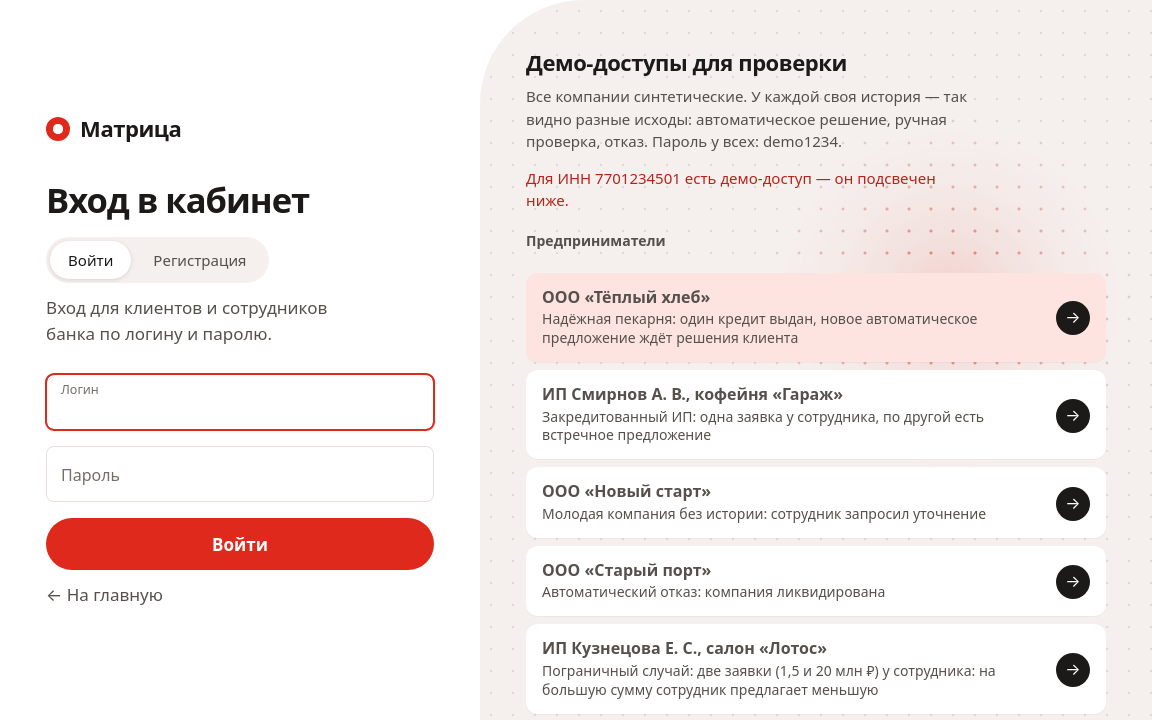
Scenario: Login › says so when the server cannot be reached
Type "client1" into the field labelled "Логин" at (240, 402), box [46, 374, 434, 430]
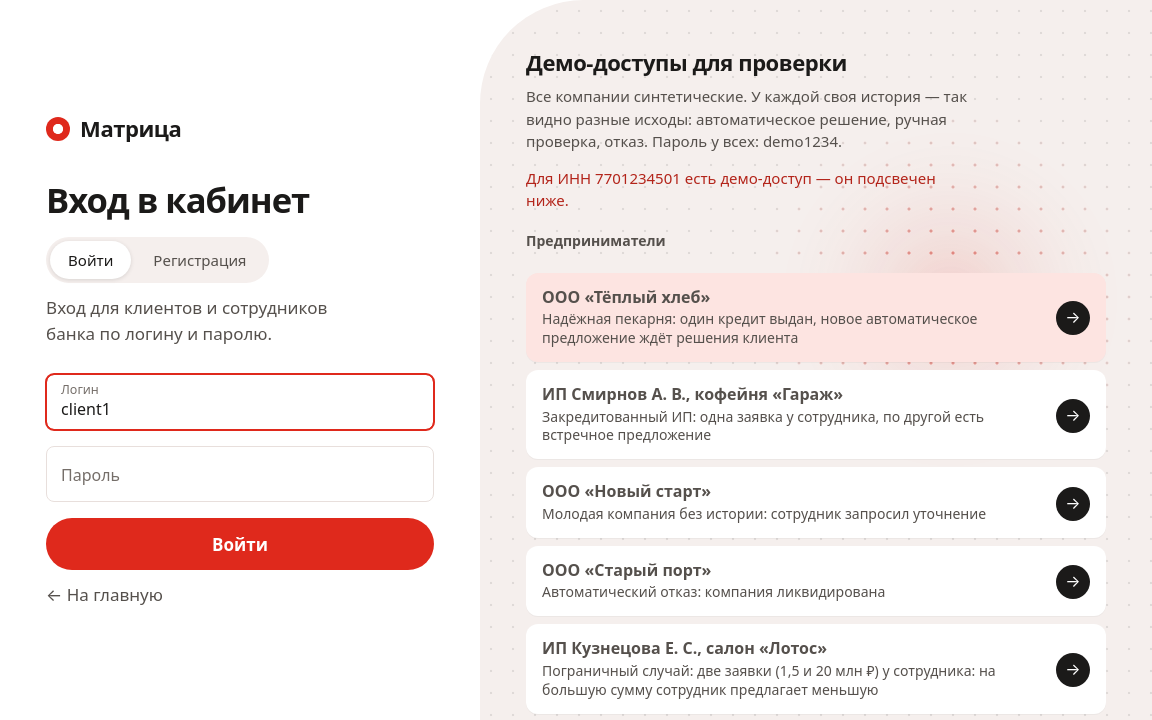
Type "x" into the password field labelled "Пароль" at (240, 474), box [46, 446, 434, 502]
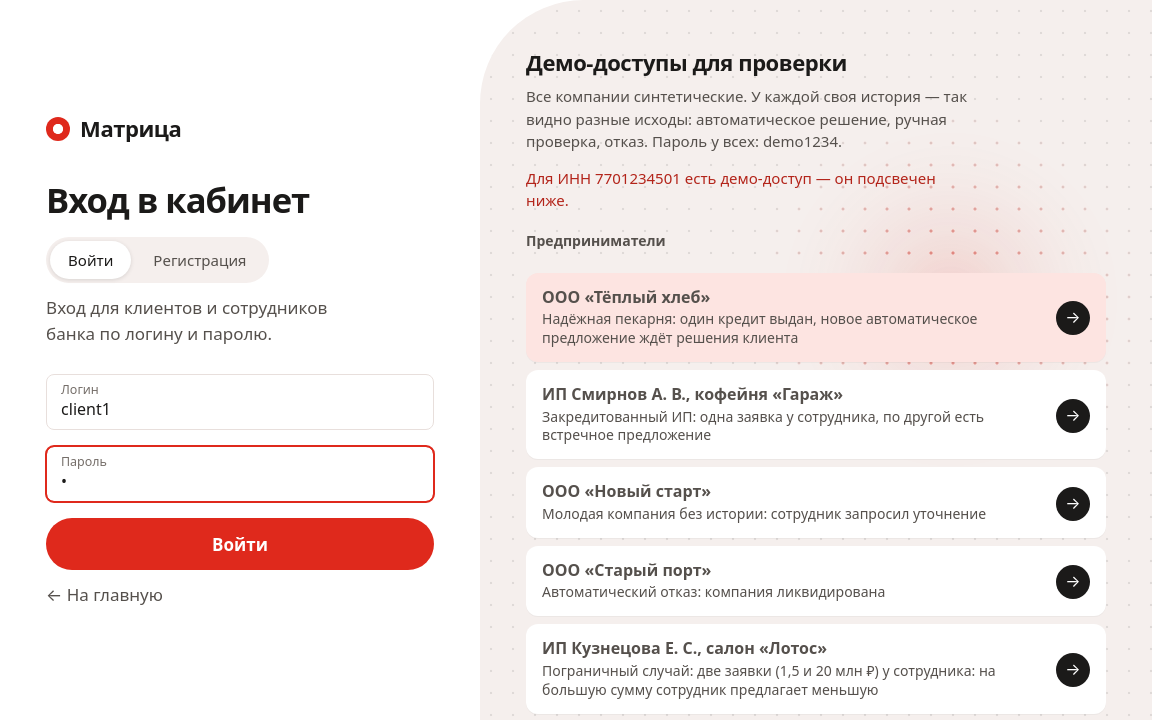
Click the button "Войти" at (240, 544), box [46, 518, 434, 570]
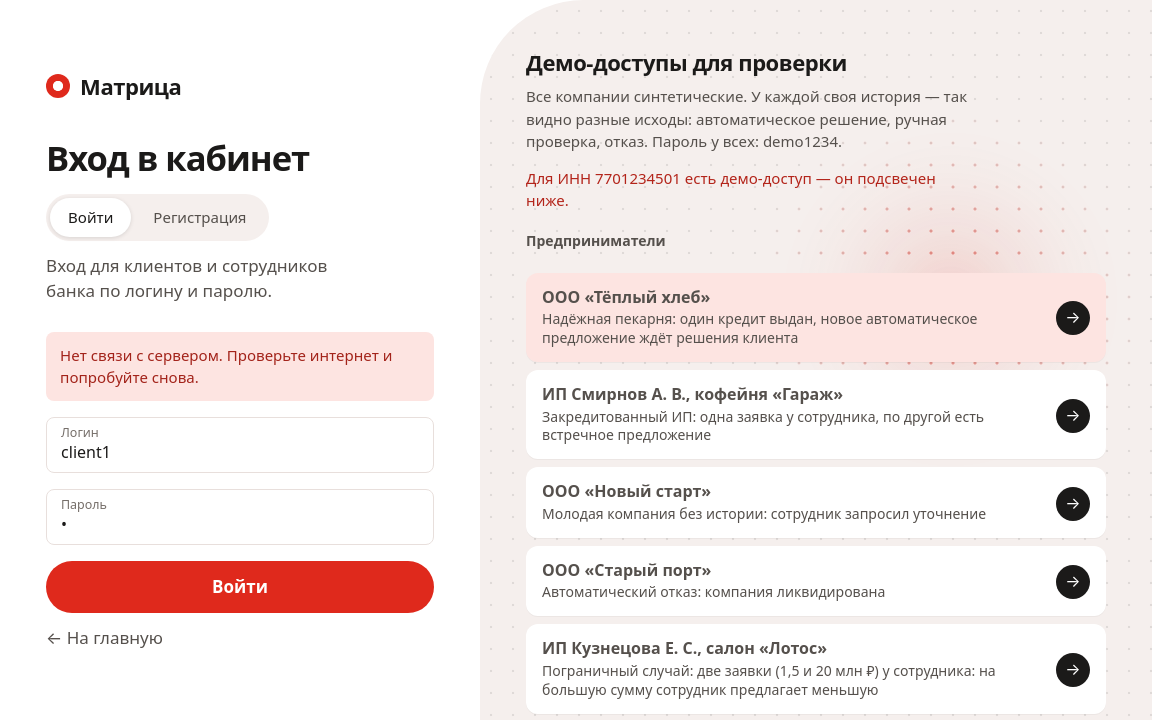
Now the message shows "Нет связи с сервером", box [60, 345, 392, 387]
